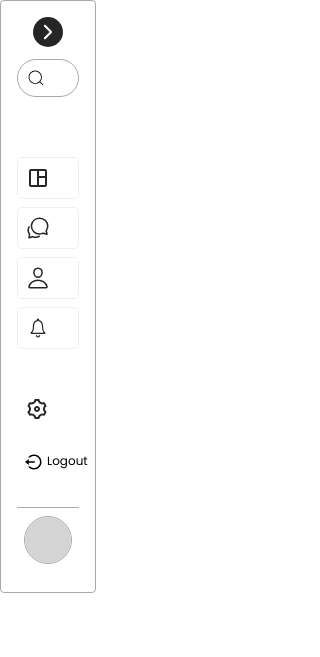
Test case: DashBoardSideBar › toggles menu visibility
Step 1. Click the icon with test id "menu-toggle-button2" → click(48, 32), box left=33, top=17, right=63, bottom=47
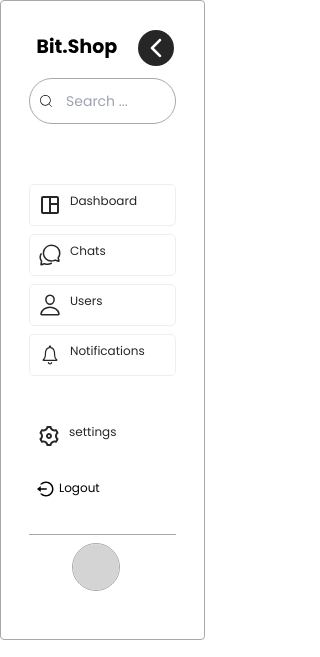
Expected: the icon with test id "menu-toggle-button" is shown, left=138, top=30, right=174, bottom=66
